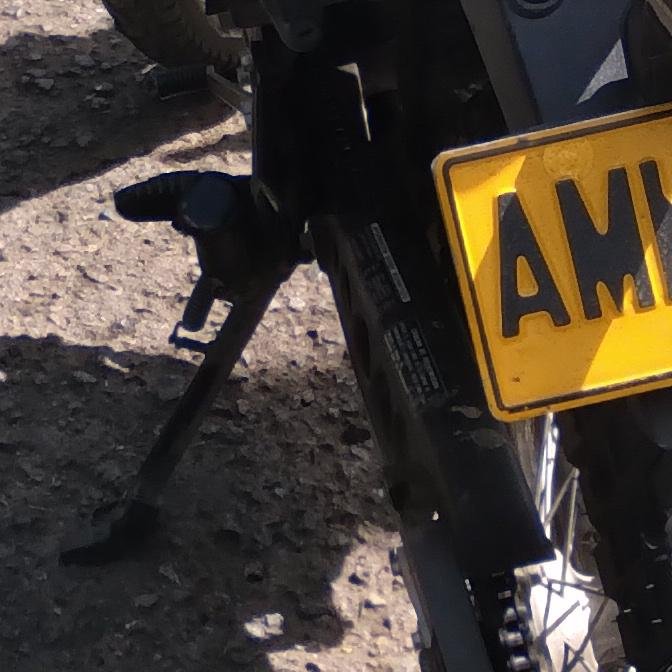plates: (428, 98, 672, 428)
